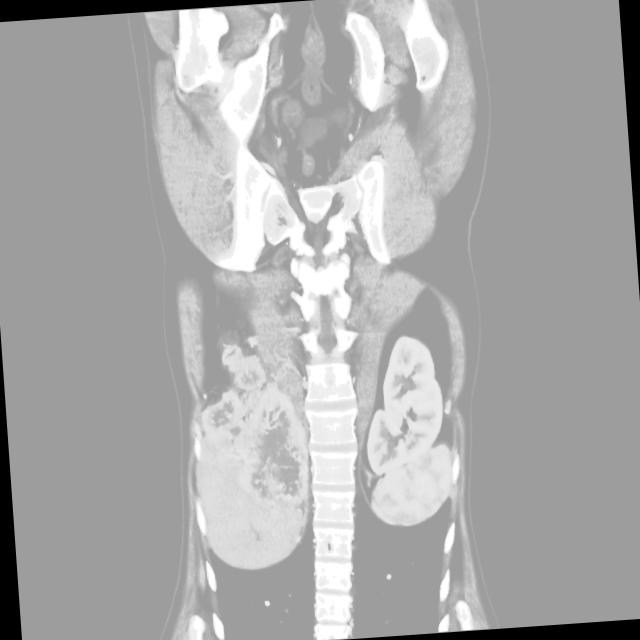TUMOR: (116, 190, 559, 583)
